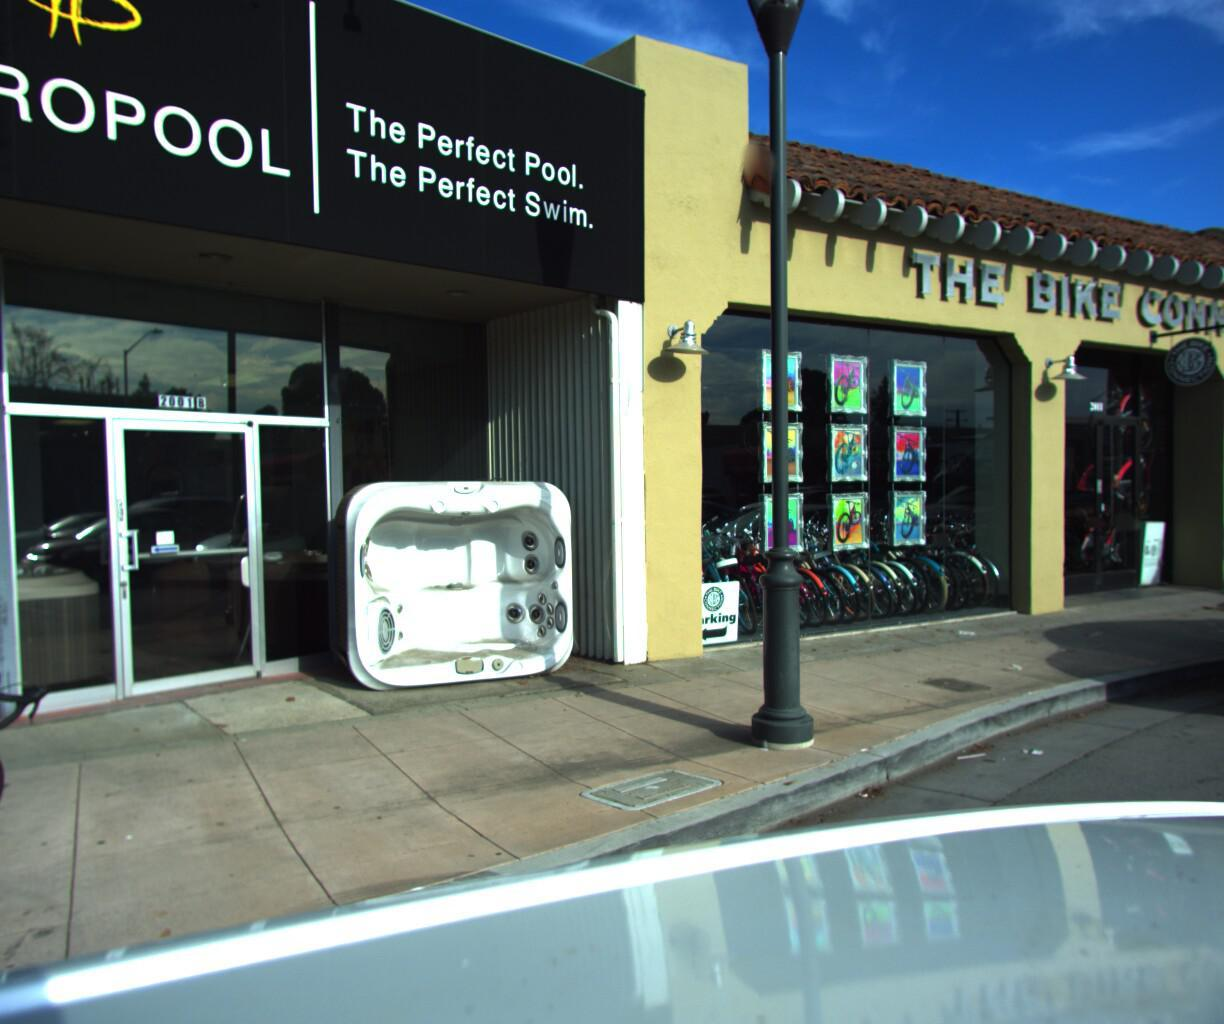bicycle: (0, 625, 48, 1024)
car: (1195, 497, 1224, 794)
